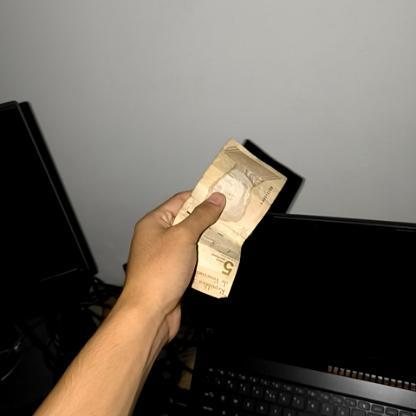vef_front: (169, 136, 287, 298)
